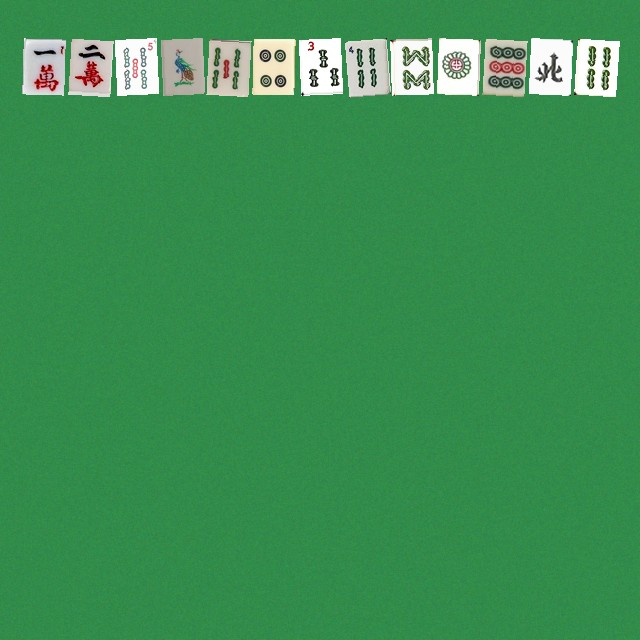tile: (22, 38, 64, 94), (68, 38, 110, 94), (114, 38, 156, 94), (160, 38, 202, 94), (206, 38, 248, 94), (252, 38, 294, 94), (298, 38, 340, 94), (344, 38, 386, 94), (390, 38, 432, 94), (436, 38, 478, 94), (482, 38, 524, 94), (528, 38, 570, 94), (574, 38, 616, 94)
